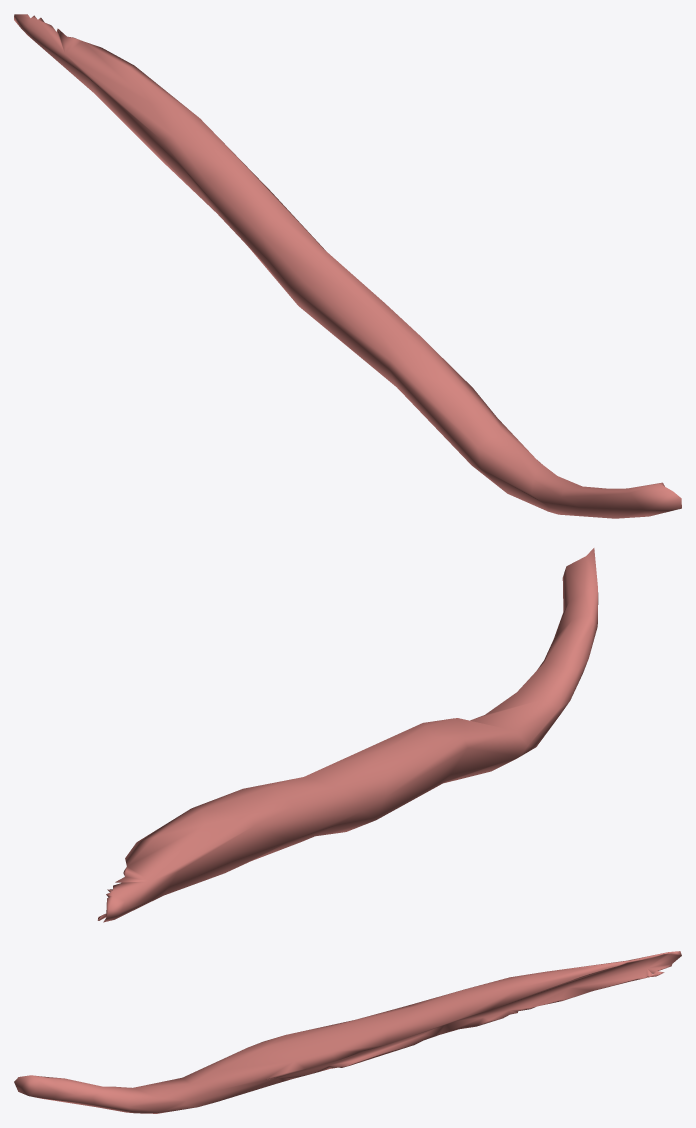
3 views of the same model, one above another, from view 1: azimuth 30°, elevation 25°; view 2: azimuth 150°, elevation 25°; view 3: azimuth 270°, elevation 25° (orthographic). The views are drawn at different scales.
Parts seen in each view (by area): view 1: ZA_30002c9af1ad72da; view 2: ZA_30002c9af1ad72da; view 3: ZA_30002c9af1ad72da.
Part boxes in pixels (x1=…): ZA_30002c9af1ad72da: x1=14, y1=14, x2=681, y2=518; ZA_30002c9af1ad72da: x1=97, y1=548, x2=598, y2=922; ZA_30002c9af1ad72da: x1=14, y1=951, x2=681, y2=1113.
Bounding box in the file's own units: 0.0157 × 0.0202 × 0.094.
